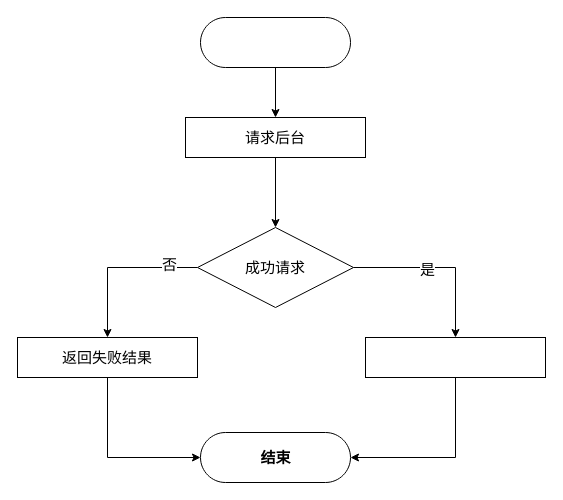
Some shapes in this 563 by 500 pixel diagram are drawn without their labels. Here are the shapes that lost their labels. From the top down, the centre of each, then its label:
pixel 275 42: 开始
pixel 455 357: 展示翻译结果
